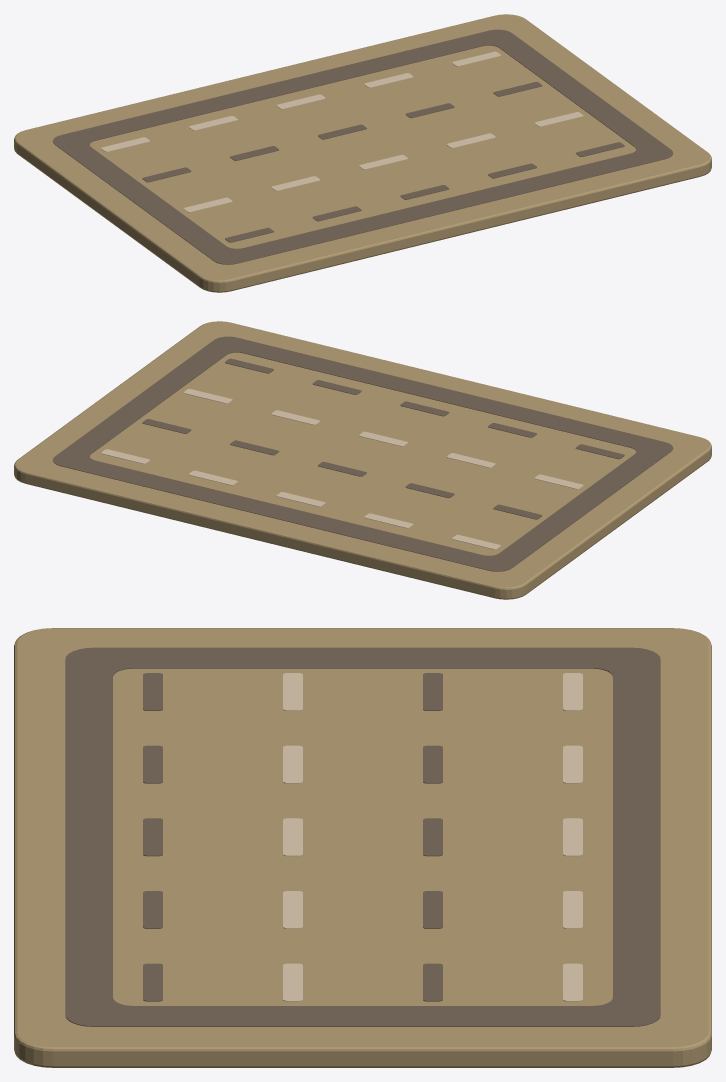
The model's file is matrug.glb.
3 renders of one model, top to bottom at view 1: azimuth 30°, elevation 25°; view 2: azimuth 150°, elevation 25°; view 3: azimuth 270°, elevation 25°, orthographic. The views are drawn at different scales.
Visible parts, largest first — view 1: closed-textile-backing, woven-border; view 2: closed-textile-backing, woven-border; view 3: closed-textile-backing, woven-border, coir-tuft-1-4, coir-tuft-2-4, coir-tuft-0-1, coir-tuft-0-2, coir-tuft-0-4, coir-tuft-1-1, coir-tuft-1-2, coir-tuft-2-1, coir-tuft-2-2, coir-tuft-3-1 (+10 smaller).
Part boxes in pixels (<box>): closed-textile-backing: <box>14,14,711,292</box>; woven-border: <box>52,29,672,264</box>; closed-textile-backing: <box>14,321,711,599</box>; woven-border: <box>53,336,673,571</box>; closed-textile-backing: <box>14,628,711,1067</box>; woven-border: <box>65,647,660,1026</box>; coir-tuft-1-4: <box>423,963,442,1001</box>; coir-tuft-2-4: <box>283,963,302,1001</box>; coir-tuft-0-1: <box>563,745,582,783</box>; coir-tuft-0-2: <box>563,818,582,856</box>; coir-tuft-0-4: <box>563,963,582,1001</box>; coir-tuft-1-1: <box>423,745,442,783</box>; coir-tuft-1-2: <box>423,818,442,856</box>; coir-tuft-2-1: <box>283,745,302,783</box>; coir-tuft-2-2: <box>283,818,302,856</box>; coir-tuft-3-1: <box>143,745,162,783</box>.
Bounding box in the file's own units: 1.25 × 0.0295 × 0.873.
